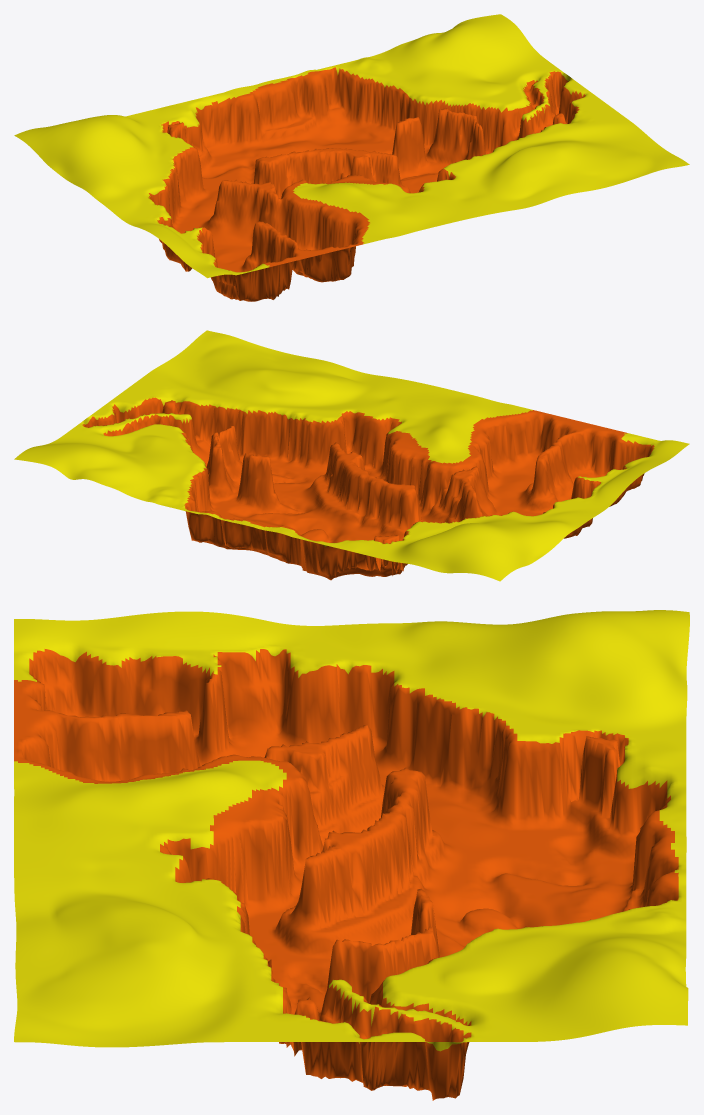
The model's file is MAPA2.fbx.
The picture shows the model from 3 angles, top to bottom: view 1: azimuth 30°, elevation 25°; view 2: azimuth 150°, elevation 25°; view 3: azimuth 270°, elevation 25°; orthographic projection. The views are drawn at different scales.
Visible parts, largest first — view 1: mapa_material; view 2: mapa_material; view 3: mapa_material.
Boxes of the visible parts, x1,y1,x2,y2 form: mapa_material: [14, 14, 689, 301]; mapa_material: [14, 330, 689, 581]; mapa_material: [14, 610, 689, 1100].
Size of the model in its own units: 454 by 71.85 by 309.
